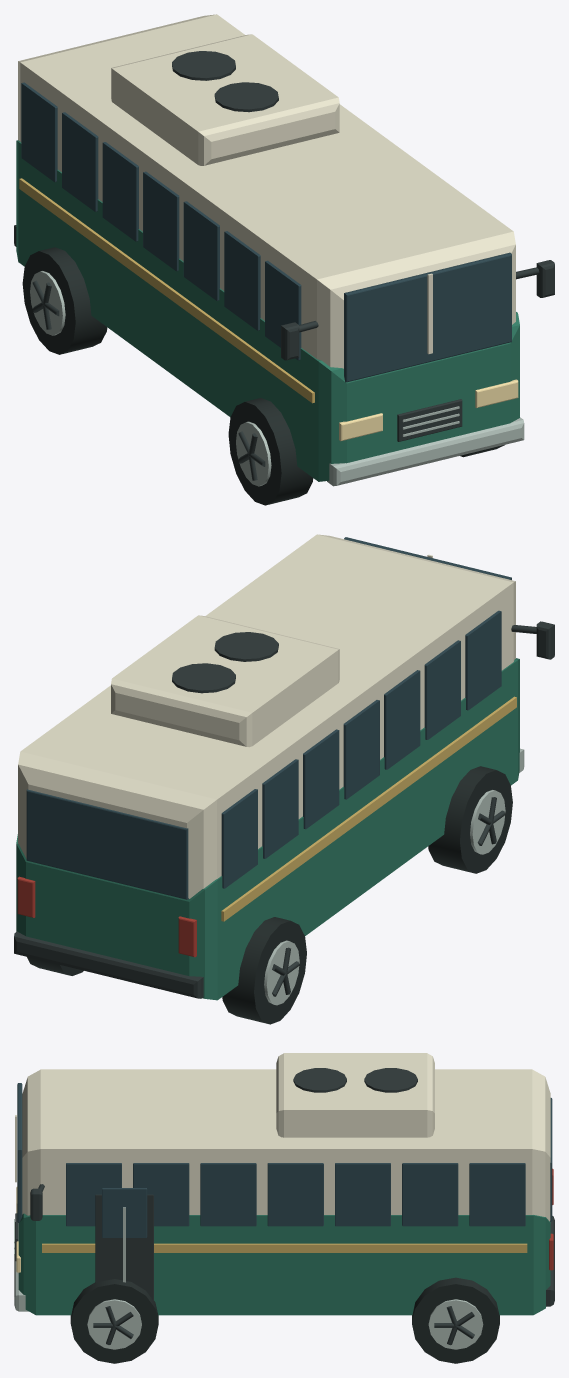
The model's file is bus.glb.
The picture shows the model from 3 angles, top to bottom: view 1: azimuth 30°, elevation 25°; view 2: azimuth 150°, elevation 25°; view 3: azimuth 270°, elevation 25°; orthographic projection. The views are drawn at different scales.
Parts seen in each view (by area): view 1: upper_body_cream, body_green, passenger_windows_glass, roof_ac_cream, windshield_glass, wheels_rubber, bumpers_chrome, side_stripe_gold, ac_fans_dark, wheels_chrome, headlights_lamp, grille_dark (+2 smaller); view 2: upper_body_cream, body_green, passenger_windows_glass, roof_ac_cream, rear_window_glass, wheels_rubber, bumpers_dark, side_stripe_gold, ac_fans_dark, wheels_chrome, tail_lights_tail, wheels_dark (+1 smaller); view 3: upper_body_cream, body_green, passenger_windows_glass, roof_ac_cream, wheels_rubber, side_stripe_gold, wheels_chrome, passenger_door_dark, door_window_glass, ac_fans_dark, wheels_dark, windshield_glass (+3 smaller).
Boxes of the visible parts, x1,y1,x2,y2 form: upper_body_cream: [18, 14, 515, 368]; body_green: [16, 140, 519, 481]; passenger_windows_glass: [21, 82, 301, 360]; roof_ac_cream: [111, 34, 339, 165]; windshield_glass: [344, 252, 511, 382]; wheels_rubber: [22, 247, 504, 505]; bumpers_chrome: [327, 417, 524, 486]; side_stripe_gold: [19, 178, 314, 403]; ac_fans_dark: [172, 51, 278, 112]; wheels_chrome: [30, 271, 271, 486]; headlights_lamp: [339, 379, 518, 441]; grille_dark: [397, 399, 462, 441]; upper_body_cream: [18, 534, 515, 898]; body_green: [16, 658, 519, 1000]; passenger_windows_glass: [221, 610, 501, 888]; roof_ac_cream: [111, 615, 339, 747]; rear_window_glass: [26, 789, 188, 899]; wheels_rubber: [27, 766, 512, 1024]; bumpers_dark: [14, 931, 203, 998]; side_stripe_gold: [221, 696, 516, 921]; ac_fans_dark: [172, 632, 278, 693]; wheels_chrome: [264, 790, 505, 1005]; tail_lights_tail: [17, 876, 196, 957]; wheels_dark: [272, 797, 505, 996]; upper_body_cream: [22, 1069, 550, 1221]; body_green: [18, 1213, 550, 1315]; passenger_windows_glass: [66, 1163, 525, 1226]; roof_ac_cream: [276, 1053, 434, 1137]; wheels_rubber: [70, 1277, 499, 1363]; side_stripe_gold: [42, 1243, 527, 1252]; wheels_chrome: [87, 1299, 483, 1349]; passenger_door_dark: [95, 1194, 153, 1300]; door_window_glass: [102, 1188, 147, 1237]; ac_fans_dark: [293, 1068, 417, 1092]; wheels_dark: [93, 1306, 474, 1345]; windshield_glass: [17, 1083, 22, 1222].
Bounding box in the file's own units: 1.14 × 1.16 × 2.4.
